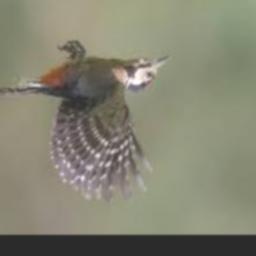Woodpecker: (0, 42, 175, 201)
